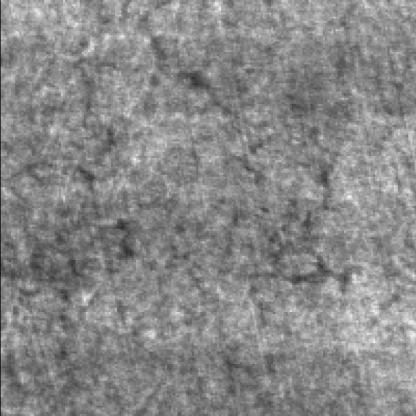crazing: (216, 131, 352, 314), (0, 154, 133, 312)
